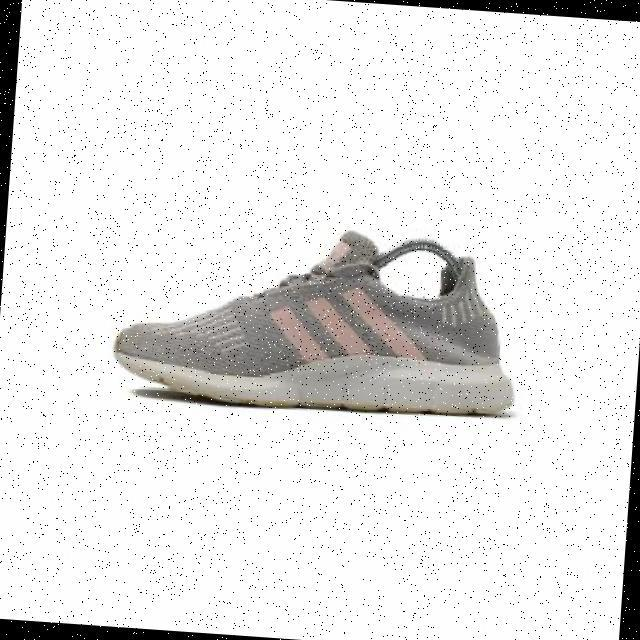Adidas: (257, 272, 446, 386)
